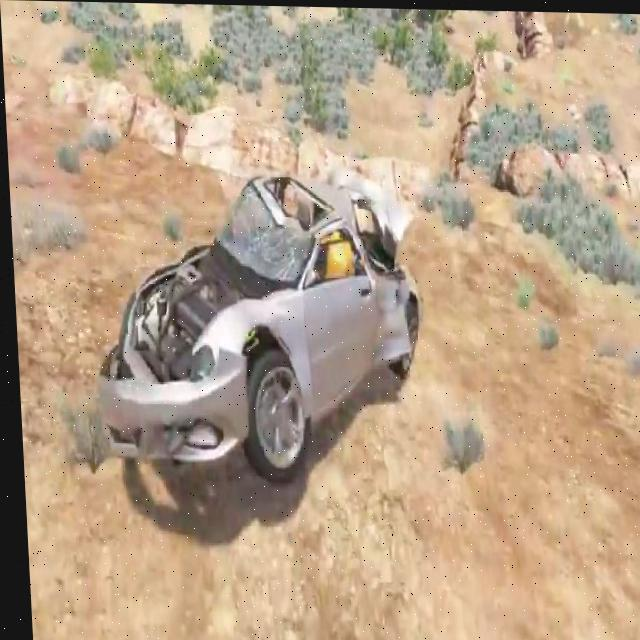single accident: (119, 155, 418, 485)
